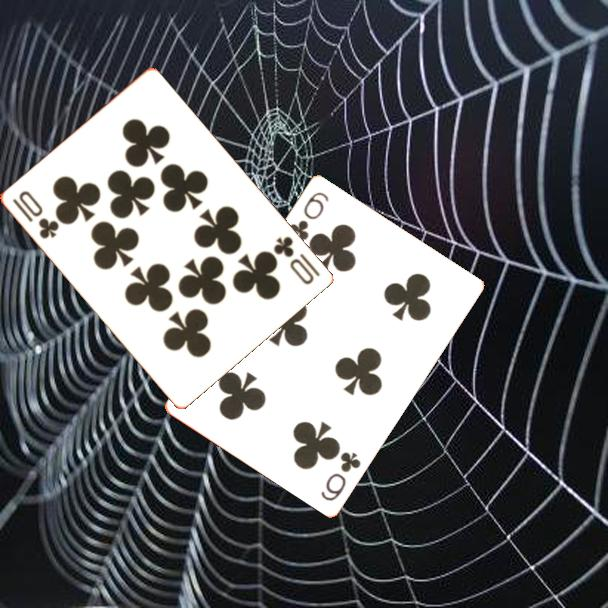c06: (317, 448, 364, 504), (285, 188, 332, 243)
c10: (269, 232, 323, 288), (8, 187, 61, 242)
